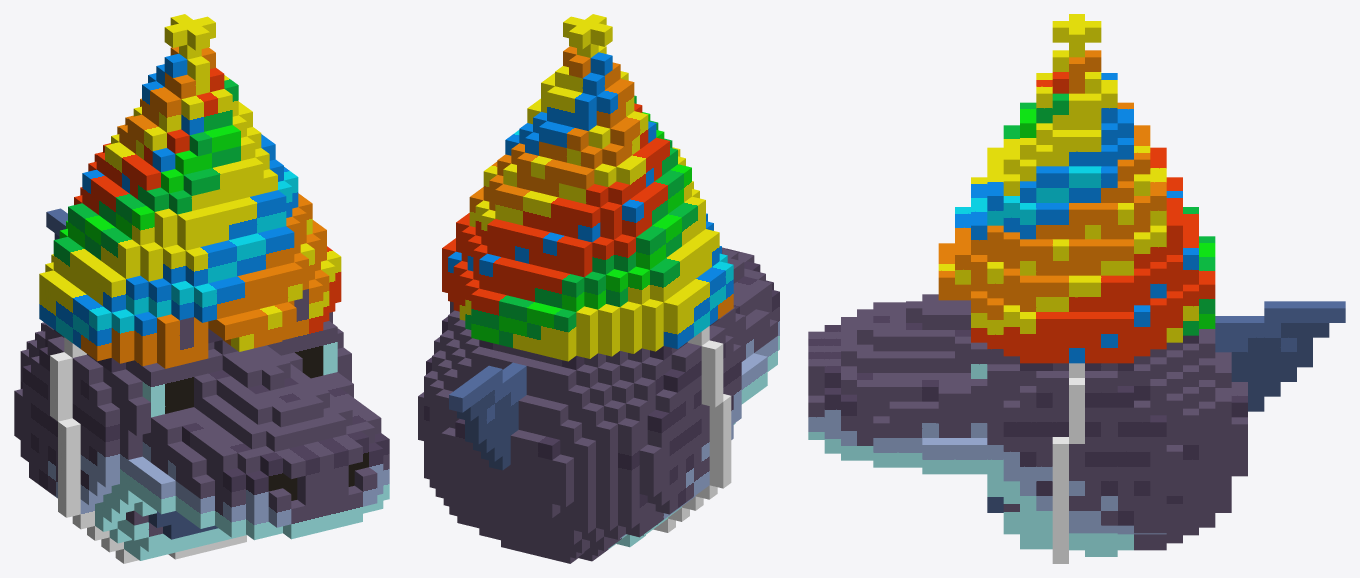
Rendered from birthday hat_rainbow spectacles.gltf.
3 views of the same model, side by side, from view 1: azimuth 30°, elevation 25°; view 2: azimuth 150°, elevation 25°; view 3: azimuth 270°, elevation 25° (orthographic). The views are drawn at different scales.
Parts seen in each view (by area): view 1: C05_H_BirthdayH_RedGlasses-Mesh; view 2: C05_H_BirthdayH_RedGlasses-Mesh; view 3: C05_H_BirthdayH_RedGlasses-Mesh.
Part boxes in pixels (<box>): C05_H_BirthdayH_RedGlasses-Mesh: <box>14,14,389,563</box>; C05_H_BirthdayH_RedGlasses-Mesh: <box>418,14,779,563</box>; C05_H_BirthdayH_RedGlasses-Mesh: <box>808,14,1345,563</box>.
Size of the model in its own units: 19 by 34 by 33.
1 material, 1 textured.
